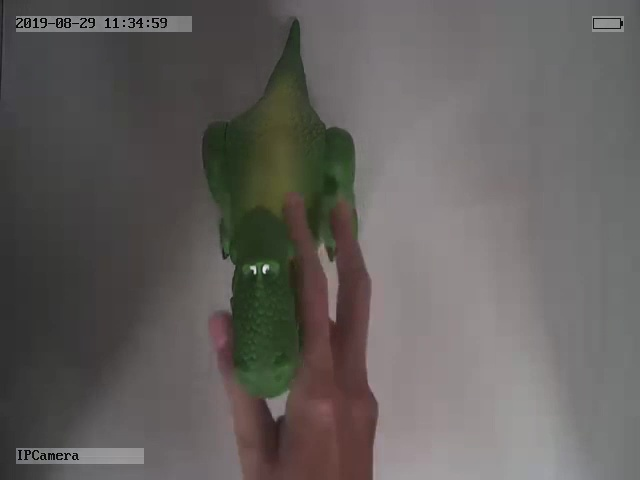rex: (201, 16, 360, 401)
